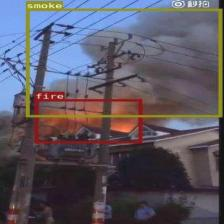fire: (34, 99, 141, 143)
smoke: (26, 8, 221, 117)
